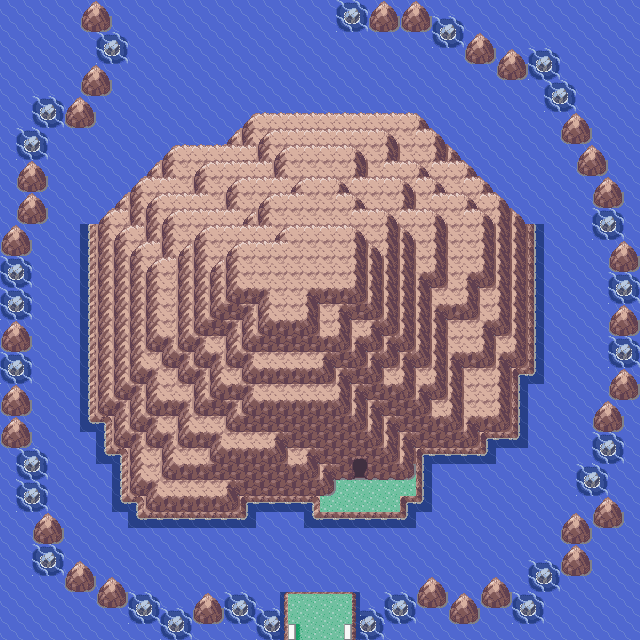cave: (324, 435, 403, 489)
